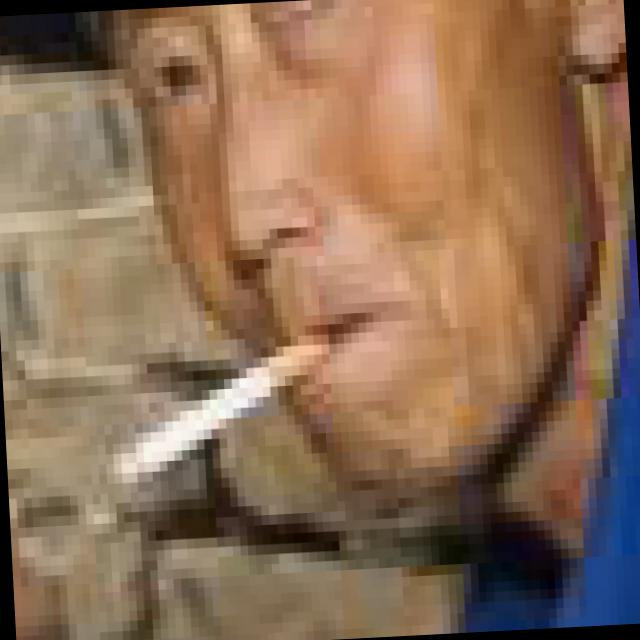cigarette: (102, 331, 340, 489)
